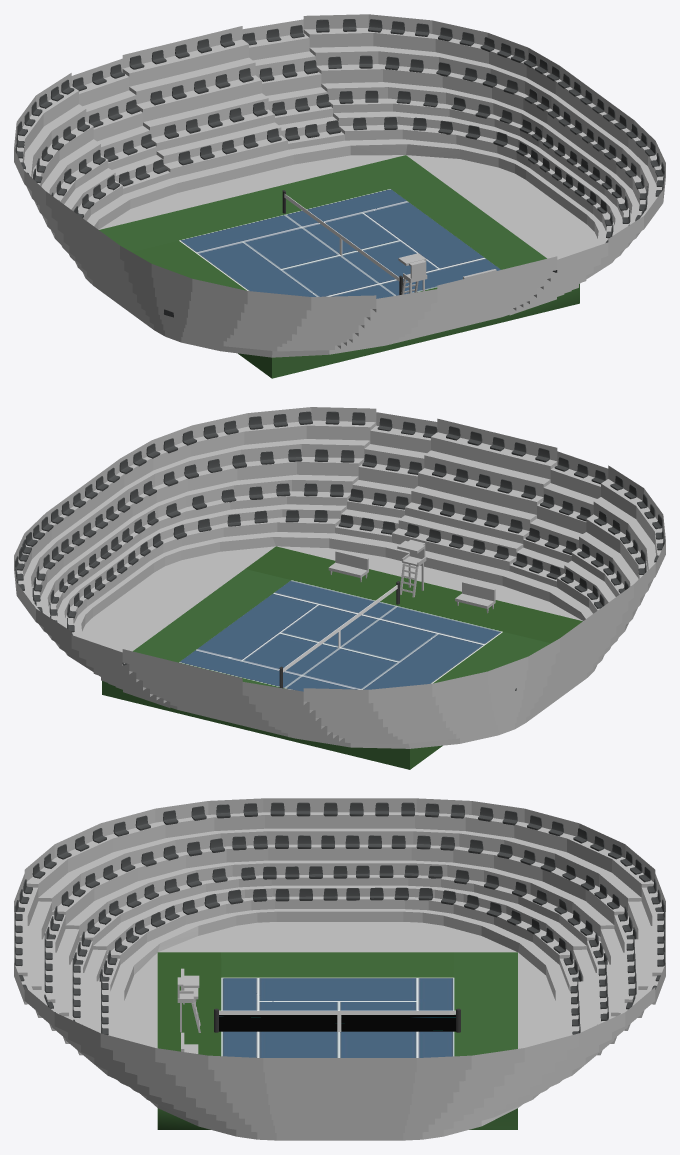
Rendered from teniss.fbx.
3 renders of one model, top to bottom at view 1: azimuth 30°, elevation 25°; view 2: azimuth 150°, elevation 25°; view 3: azimuth 270°, elevation 25°, orthographic. The views are drawn at different scales.
Visible parts, largest first — view 1: estadio, cancha, silla referi, borde red; view 2: estadio, cancha, silla referi, borde red; view 3: estadio, cancha, red, borde red, silla referi.
Part boxes in pixels (<box>): estadio: <box>14,14,665,378</box>; cancha: <box>179,189,500,298</box>; silla referi: <box>398,253,496,294</box>; borde red: <box>282,190,402,294</box>; estadio: <box>14,407,665,769</box>; cancha: <box>179,580,502,691</box>; silla referi: <box>328,539,495,613</box>; borde red: <box>279,581,399,688</box>; estadio: <box>14,798,665,1140</box>; cancha: <box>221,977,454,1057</box>; red: <box>219,1015,455,1031</box>; borde red: <box>214,1008,460,1032</box>; silla referi: <box>177,968,200,1053</box>.
Size of the model in its own units: 8206 by 1838 by 8705.
